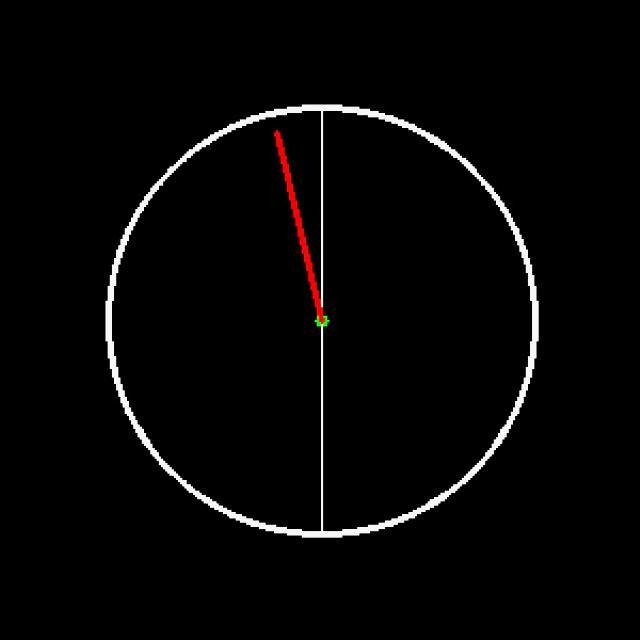Needle_Tip: (253, 98, 303, 177)
Needle_base: (288, 298, 347, 341)
